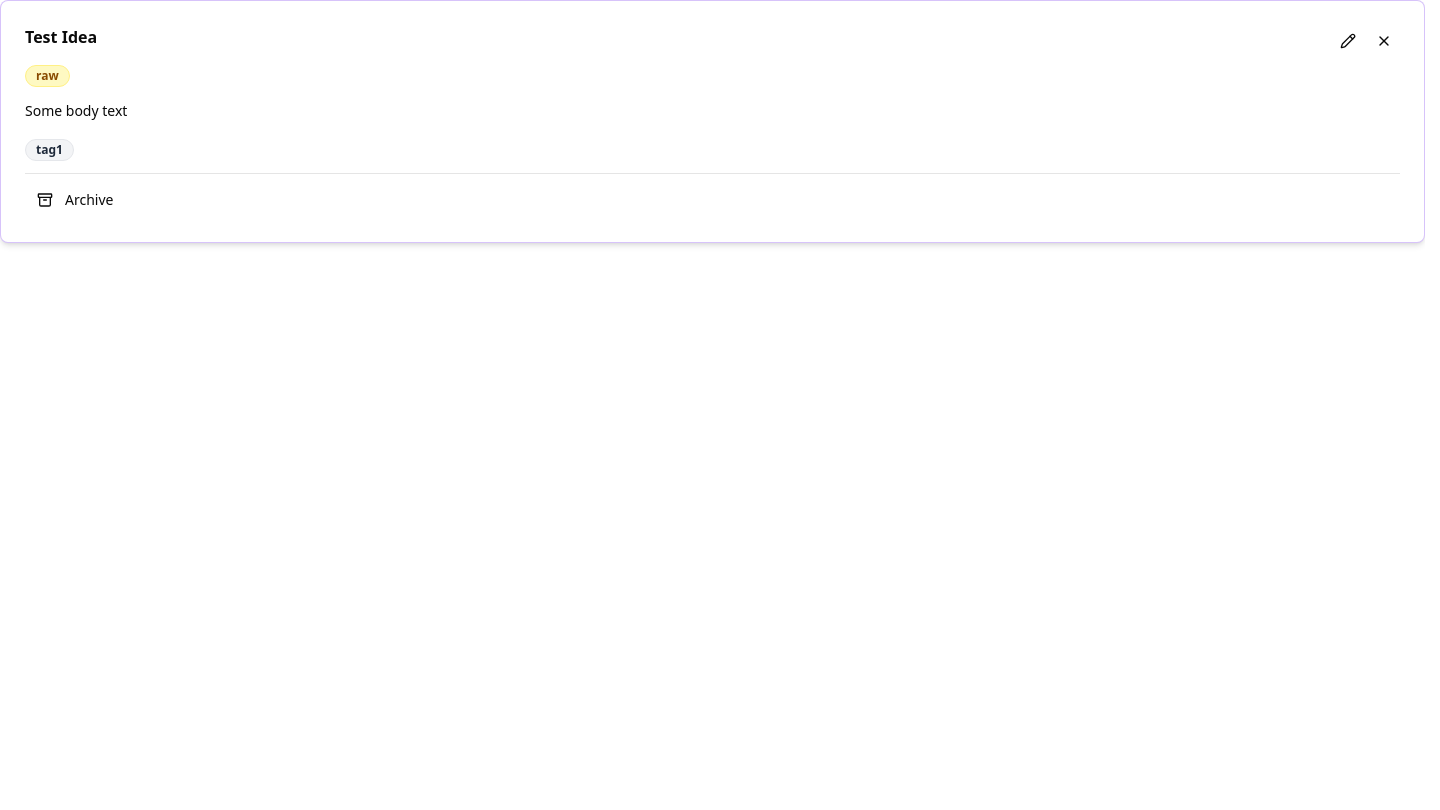
IdeaCard › Save behavior (active) › shows Unsaved changes prompt when closing dirty
Click the button named "Edit idea" at (1348,41), box [1332, 25, 1364, 57]
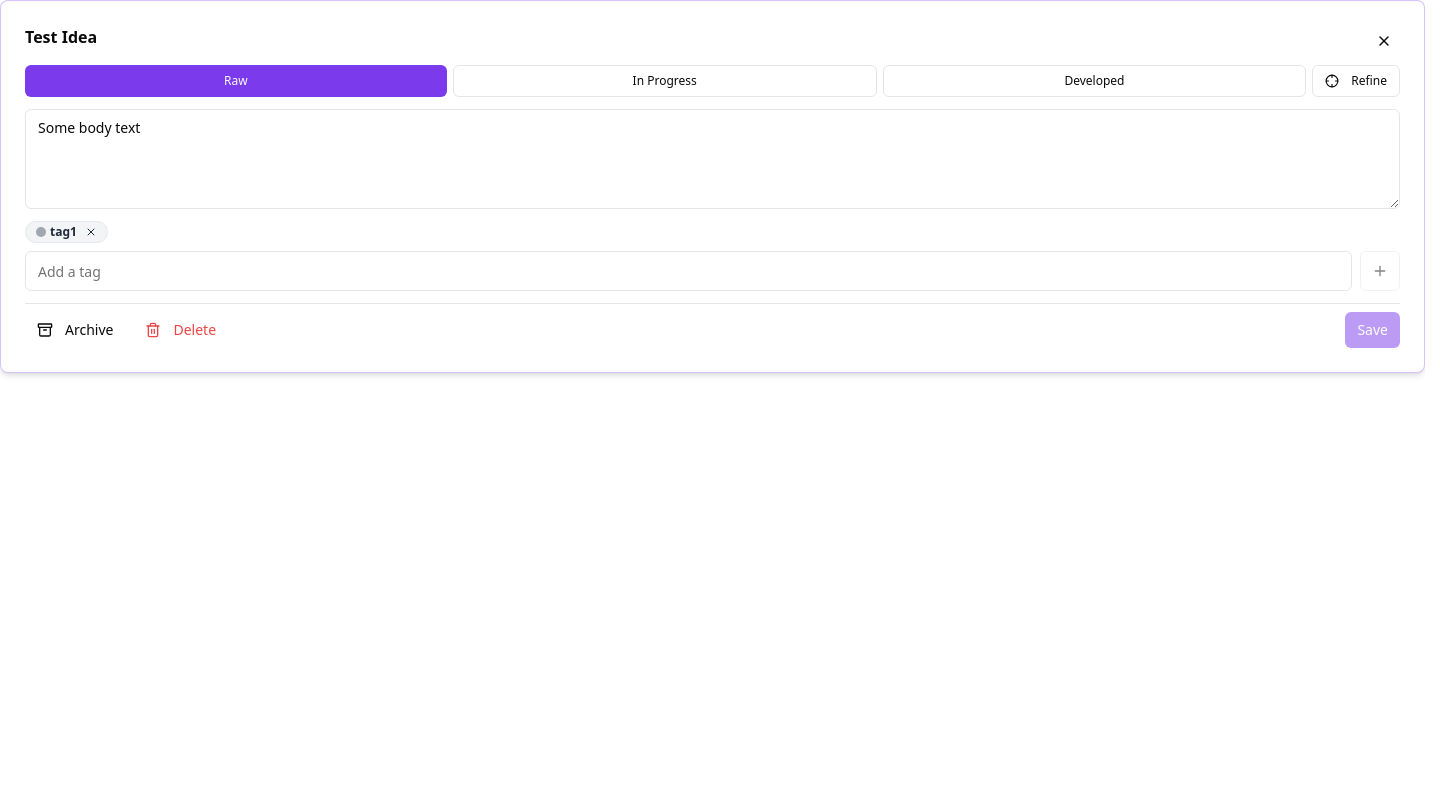
Replace the text in the text box named "Idea body" with "dirty" at (712,159), box [25, 109, 1400, 209]
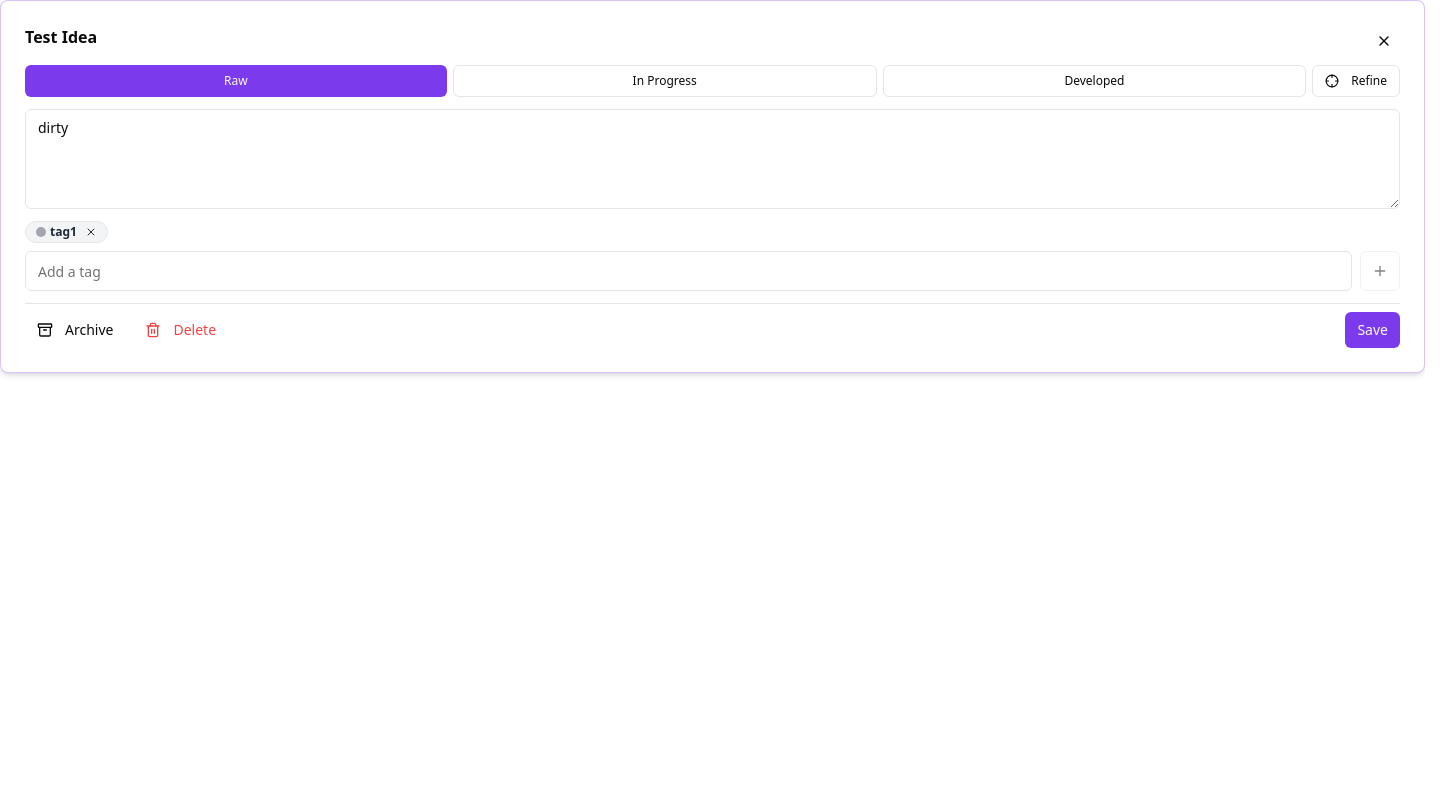
Click the button named "Close idea" at (1384,41), box [1368, 25, 1400, 57]
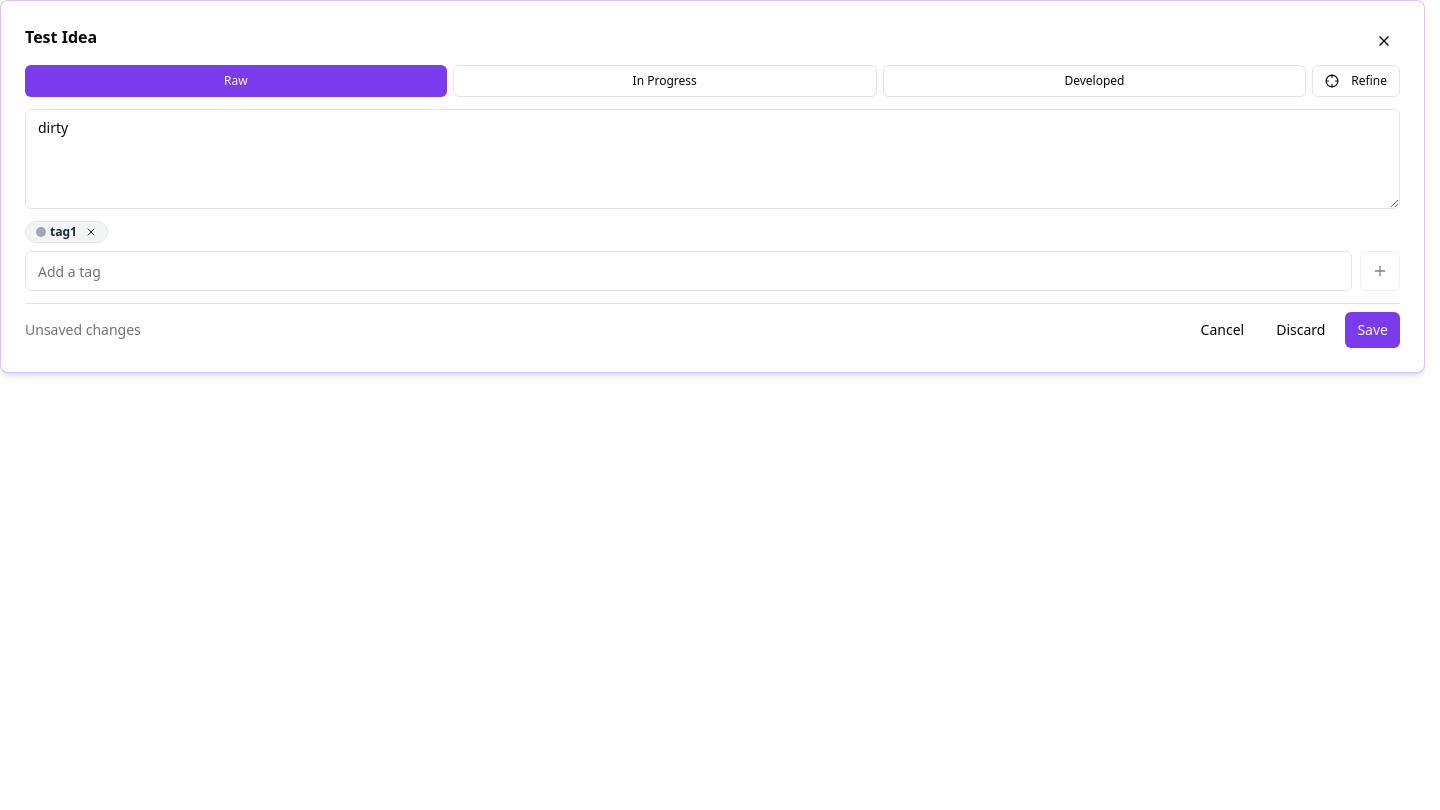
Check: the text "Unsaved changes" is shown, box [25, 320, 141, 340]
